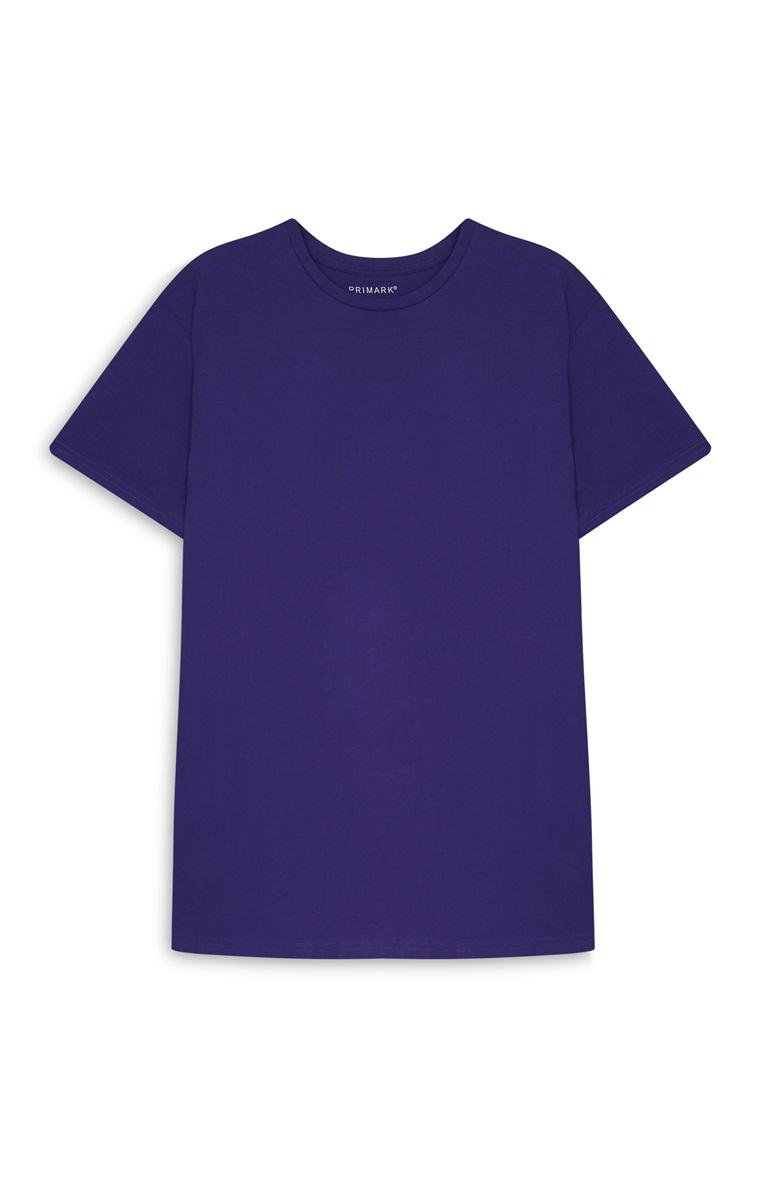teeshirt: (54, 204, 732, 958)
